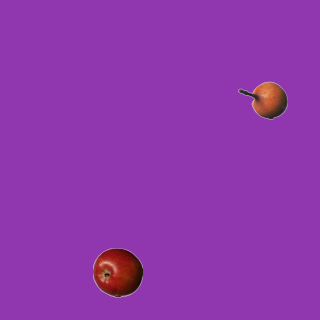Apple Braeburn: (92, 247, 142, 297)
Granadilla: (237, 75, 287, 125)
